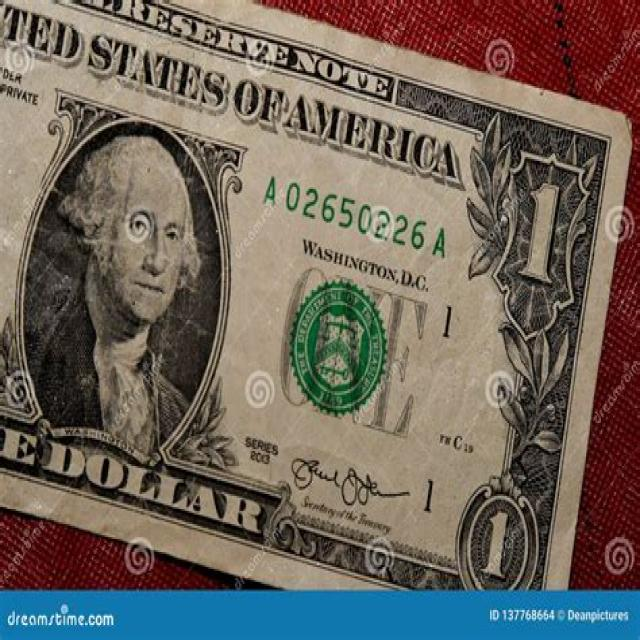One: (0, 0, 628, 589)
